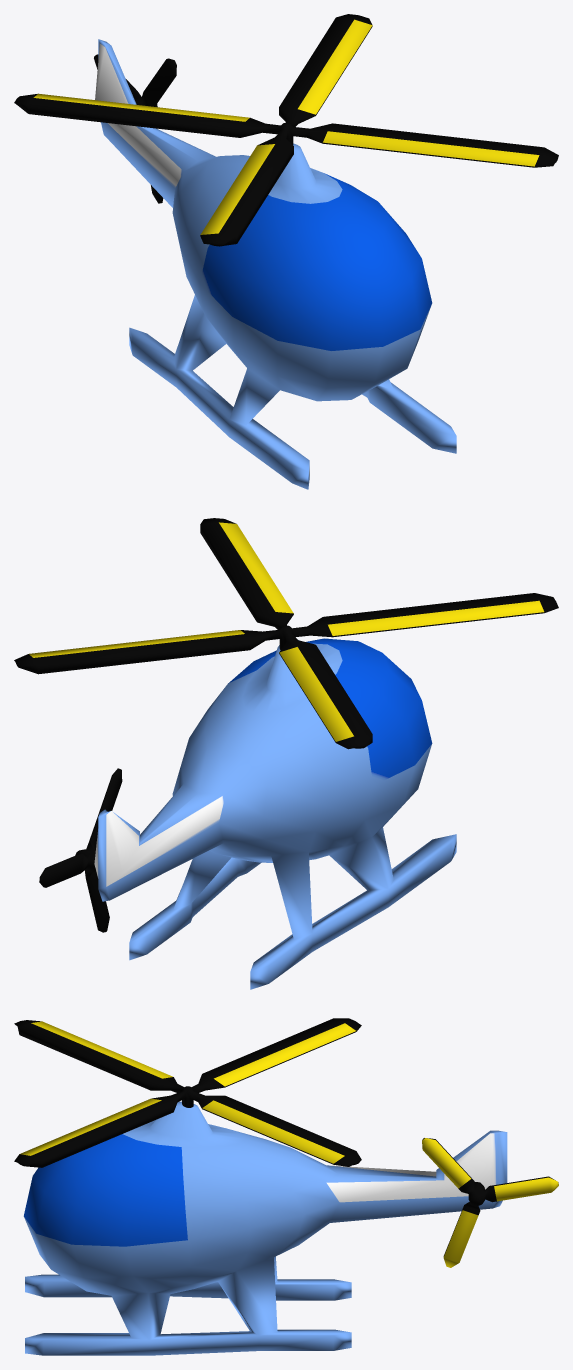
The model's file is Helicopter.fbx.
3 views of the same model, one above another, from view 1: azimuth 30°, elevation 25°; view 2: azimuth 150°, elevation 25°; view 3: azimuth 270°, elevation 25° (orthographic). The views are drawn at different scales.
Parts seen in each view (by area): view 1: sphere1, cylinder2, cylinder4; view 2: sphere1, cylinder2, cylinder4; view 3: sphere1, cylinder2, cylinder4.
Part boxes in pixels (x1=…): sphere1: x1=95, y1=39, x2=456, y2=489; cylinder2: x1=14, y1=14, x2=558, y2=246; cylinder4: x1=94, y1=54, x2=176, y2=203; sphere1: x1=94, y1=638, x2=456, y2=989; cylinder2: x1=14, y1=518, x2=558, y2=749; cylinder4: x1=39, y1=768, x2=122, y2=932; sphere1: x1=23, y1=1101, x2=507, y2=1355; cylinder2: x1=14, y1=1018, x2=361, y2=1167; cylinder4: x1=422, y1=1138, x2=558, y2=1267.
Bounding box in the file's own units: 409 × 305 × 641.
Materials: 3 (3 with a texture image).
